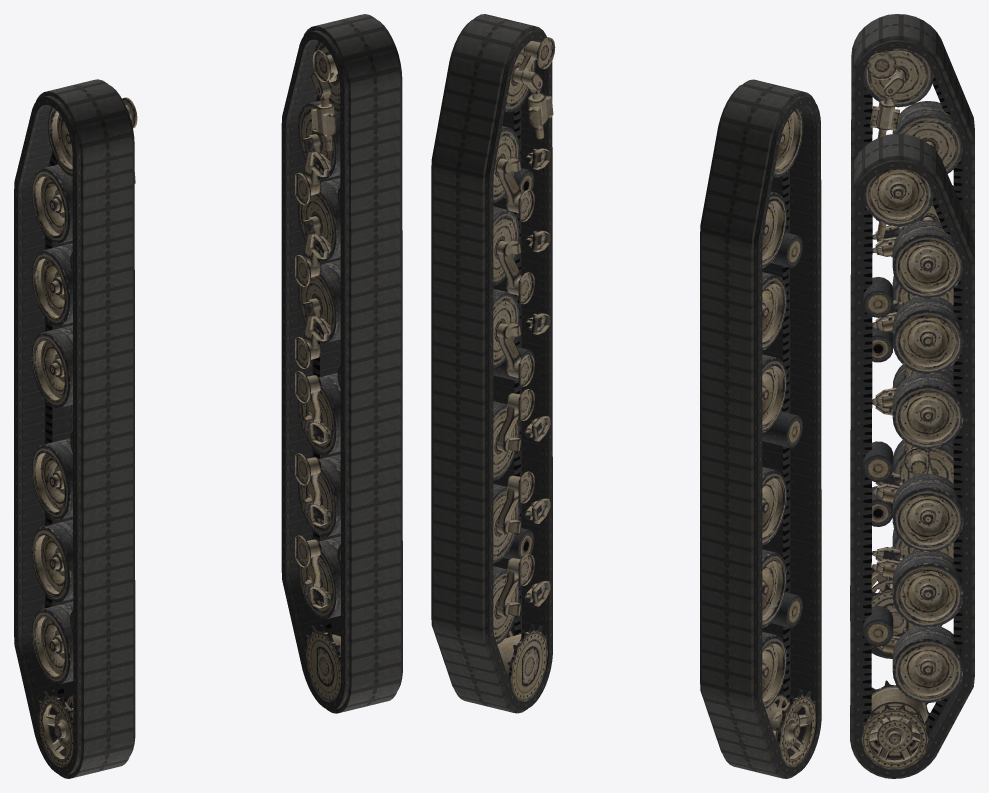
File: Chassis.glb
3 renders of one model, left to right at view 1: azimuth 30°, elevation 25°; view 2: azimuth 150°, elevation 25°; view 3: azimuth 270°, elevation 25°, orthographic. The views are drawn at different scales.
Parts seen in each view (by area): view 1: set_0_group_0, set_1_group_0, set_3_group_0, set_2_group_0; view 2: set_0_group_0, set_1_group_0, set_3_group_0, set_2_group_0; view 3: set_3_group_0, set_1_group_0, set_2_group_0, set_0_group_0.
Part boxes in pixels (x1,y1,x2,y2): set_0_group_0: (14, 79, 135, 778); set_1_group_0: (281, 14, 402, 713); set_3_group_0: (295, 41, 340, 701); set_2_group_0: (31, 97, 137, 767); set_0_group_0: (700, 79, 821, 778); set_1_group_0: (431, 14, 552, 713); set_3_group_0: (493, 37, 555, 701); set_2_group_0: (736, 84, 816, 767); set_3_group_0: (861, 168, 963, 769); set_1_group_0: (850, 134, 974, 778); set_2_group_0: (863, 48, 962, 637); set_0_group_0: (850, 14, 974, 658).
Bounding box in the file's own units: 3.4 × 6.78 × 1.23.
Materials: 4 (4 with a texture image).
